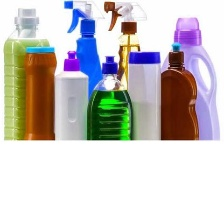cleaning_solution: (156, 14, 220, 183), (1, 6, 52, 174), (101, 0, 149, 162), (61, 0, 109, 161), (81, 54, 135, 186), (153, 38, 201, 184), (20, 44, 58, 190), (52, 47, 90, 187), (125, 49, 162, 184)
